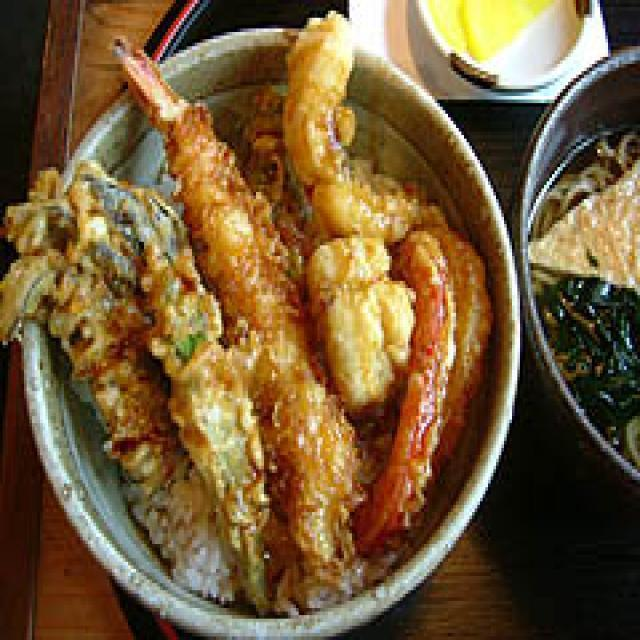tempura-bowl: (0, 0, 523, 637)
